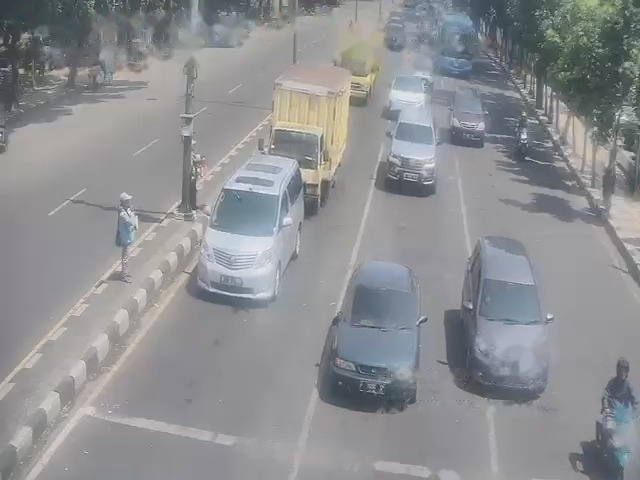Bis: (433, 11, 478, 75)
Mobil: (329, 248, 419, 400), (205, 156, 298, 299), (467, 240, 553, 391), (384, 98, 436, 193), (450, 88, 487, 146), (385, 75, 425, 116)
Motor: (604, 398, 638, 455), (515, 128, 528, 159)
Truk: (262, 63, 344, 202), (334, 35, 380, 103)
